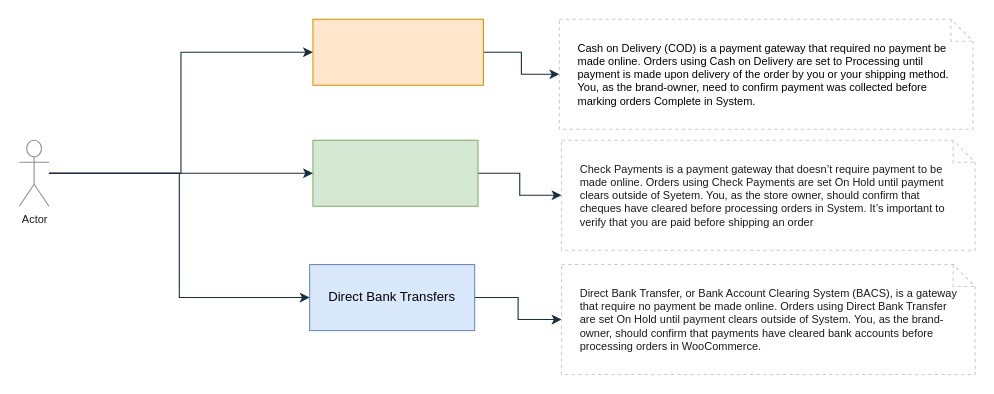
Image size: 994x394. Some labels were removed from this diagram. Each missing label, with the centre of its shape:
Check Payments: (395,172)
COD Cash on delivery: (397,51)
